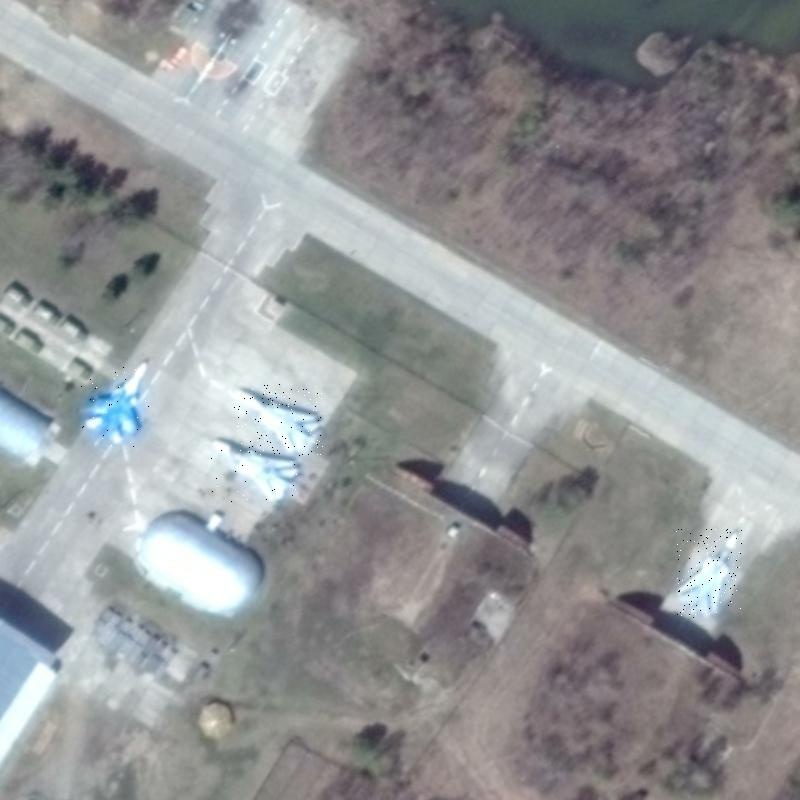A19: (79, 359, 152, 447)
A20: (234, 384, 323, 456), (211, 436, 301, 503), (676, 529, 742, 618)
